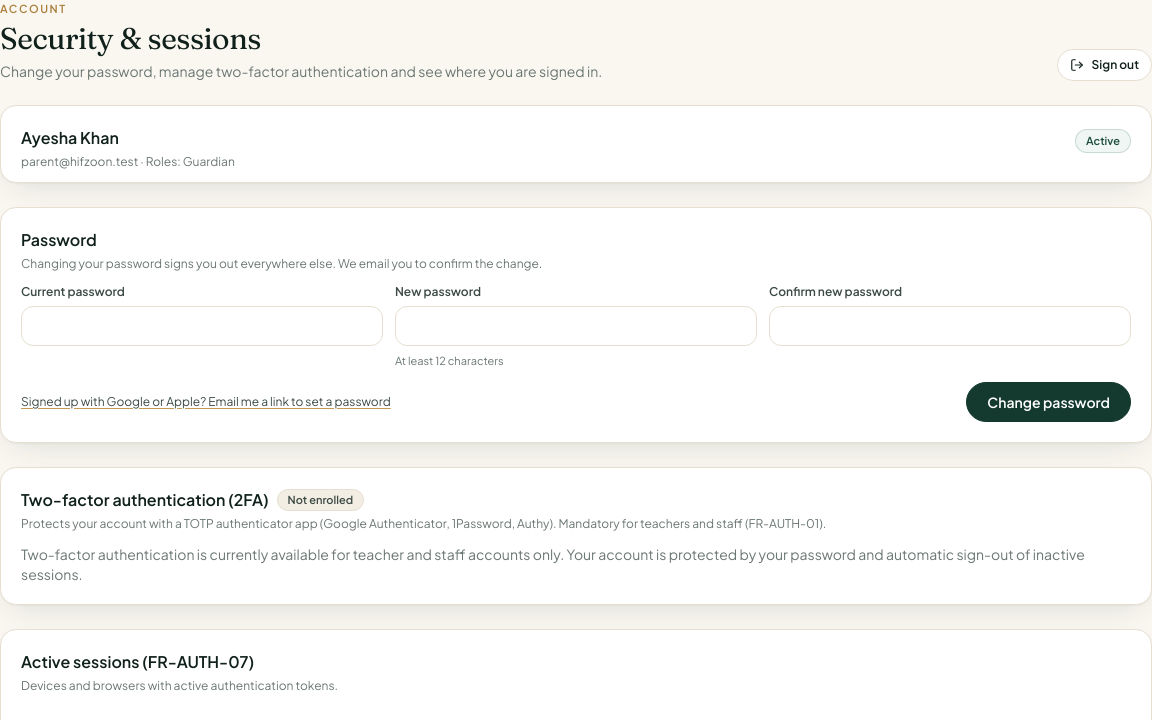
it: Account security → Password › validates locally and shows the API error for a wrong current password
Step 1. Type "wrong-password-1" into the password field labelled "Current password" → [202, 326], box top-left (21, 306), bottom-right (383, 346)
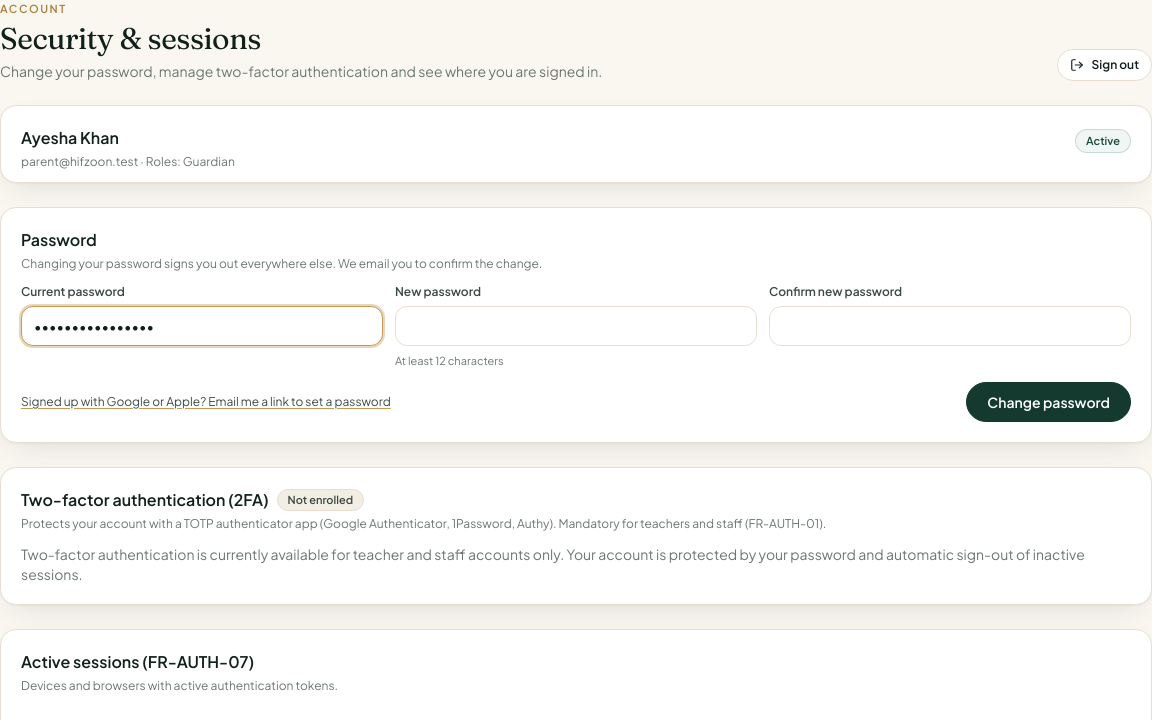
Step 2. Type "short" into the password field labelled "New password" → [576, 326], box top-left (395, 306), bottom-right (757, 346)
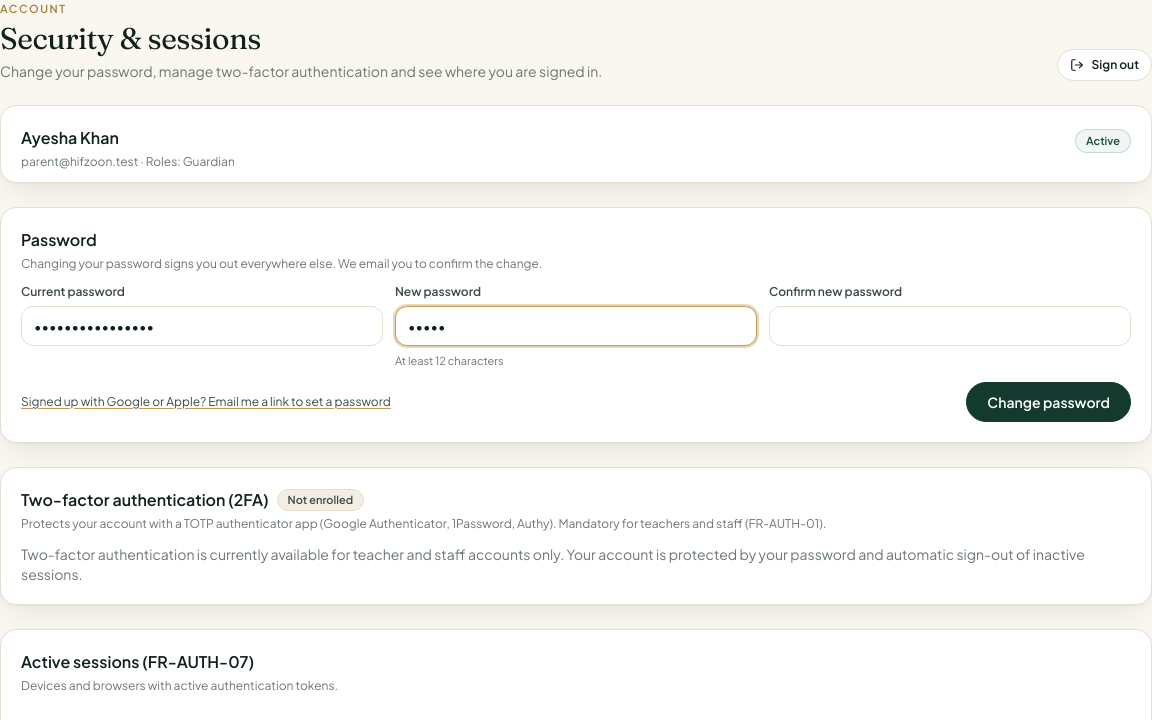
Step 3. Click the button "Change password" → [1049, 402], box top-left (966, 382), bottom-right (1131, 422)
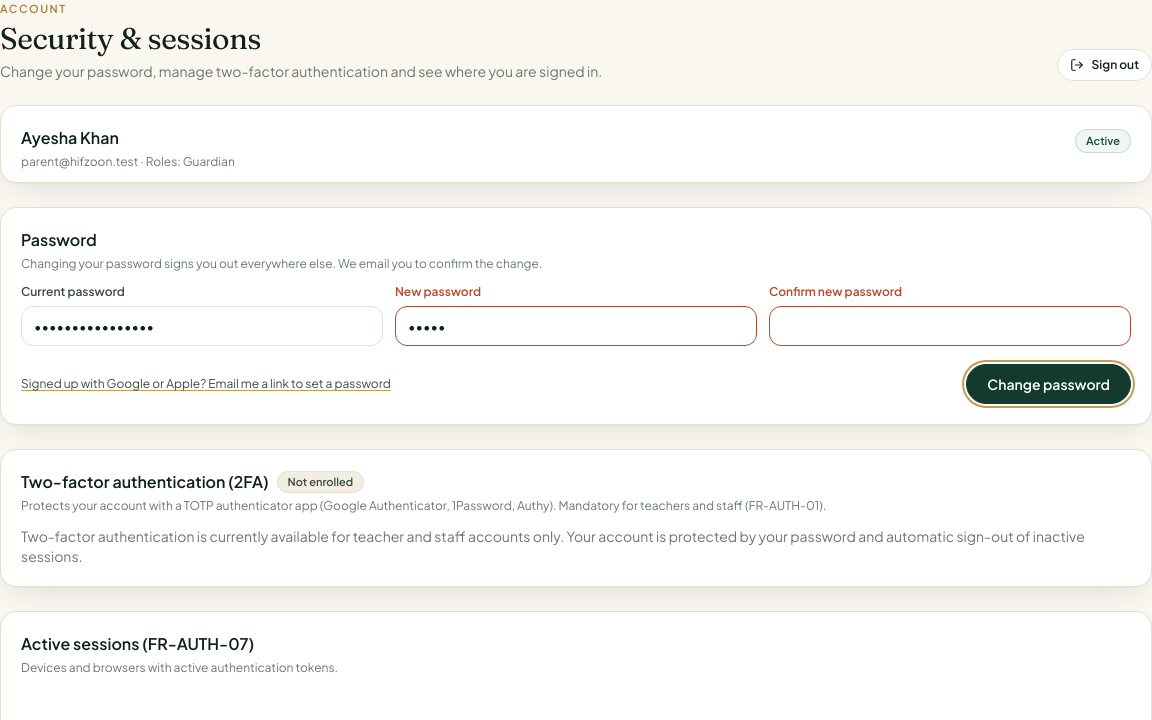
Step 4. Type "new-password-456" into the password field labelled "New password" → [576, 326], box top-left (395, 306), bottom-right (757, 346)
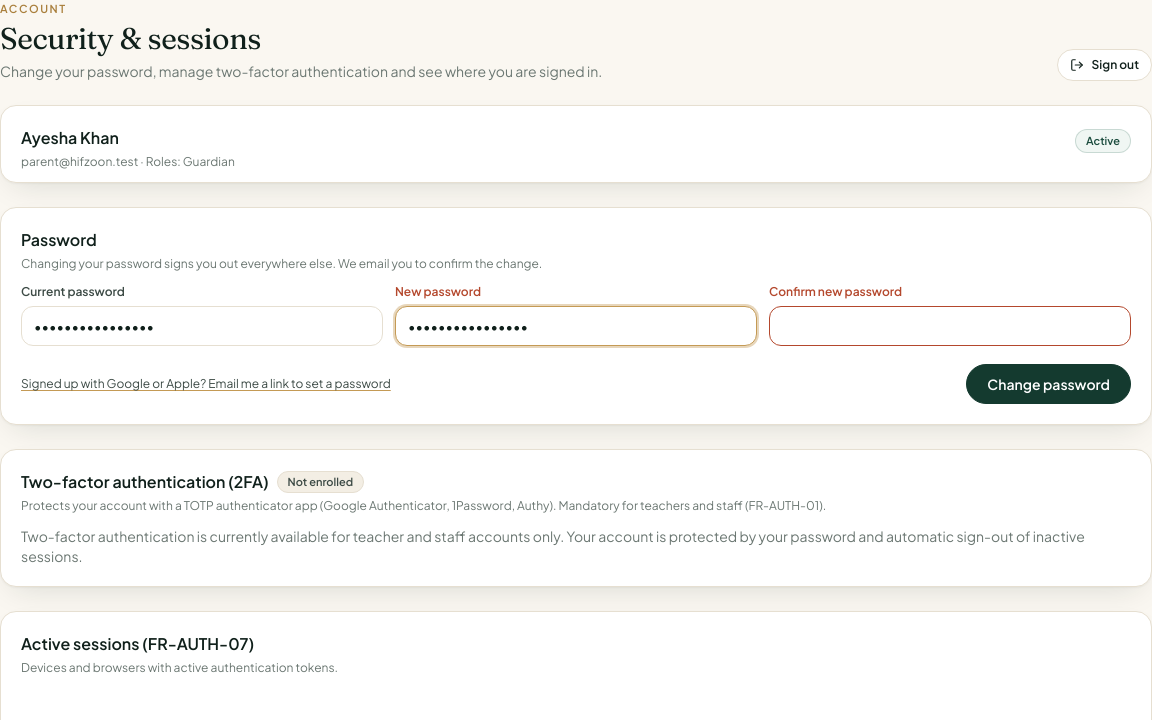
Step 5. Type "new-password-456" into the password field labelled "Confirm new password" → [950, 326], box top-left (769, 306), bottom-right (1131, 346)
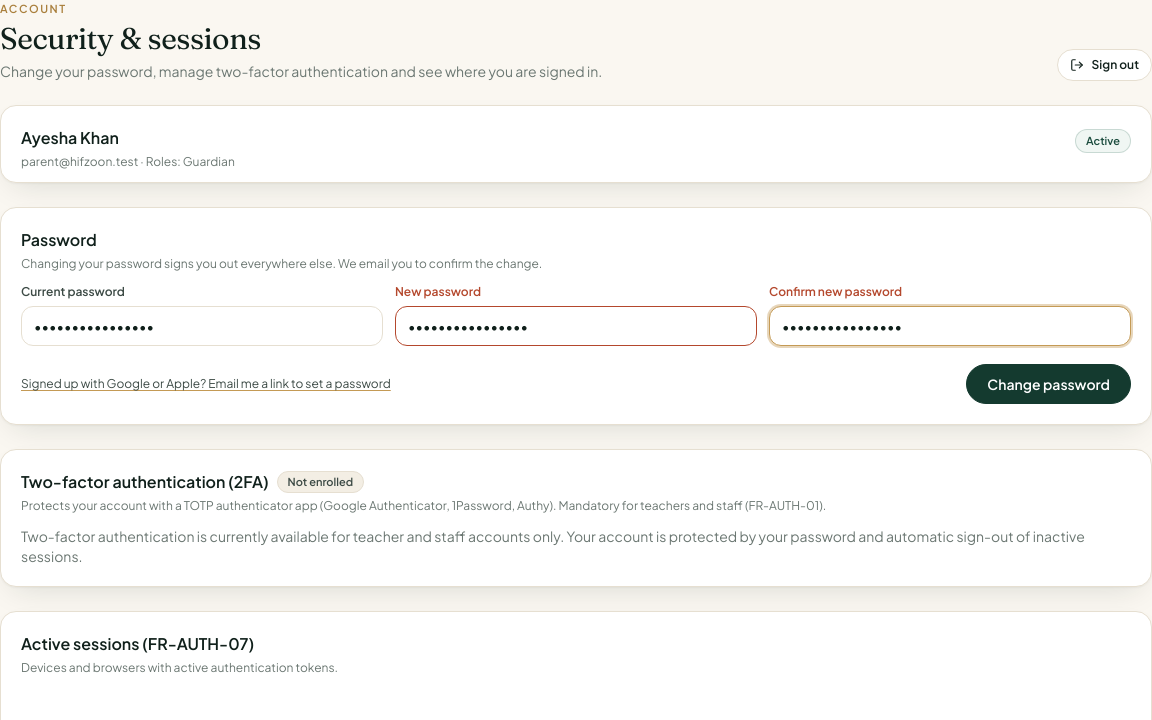
Step 6. Click the button "Change password" → [1049, 384], box top-left (966, 364), bottom-right (1131, 404)
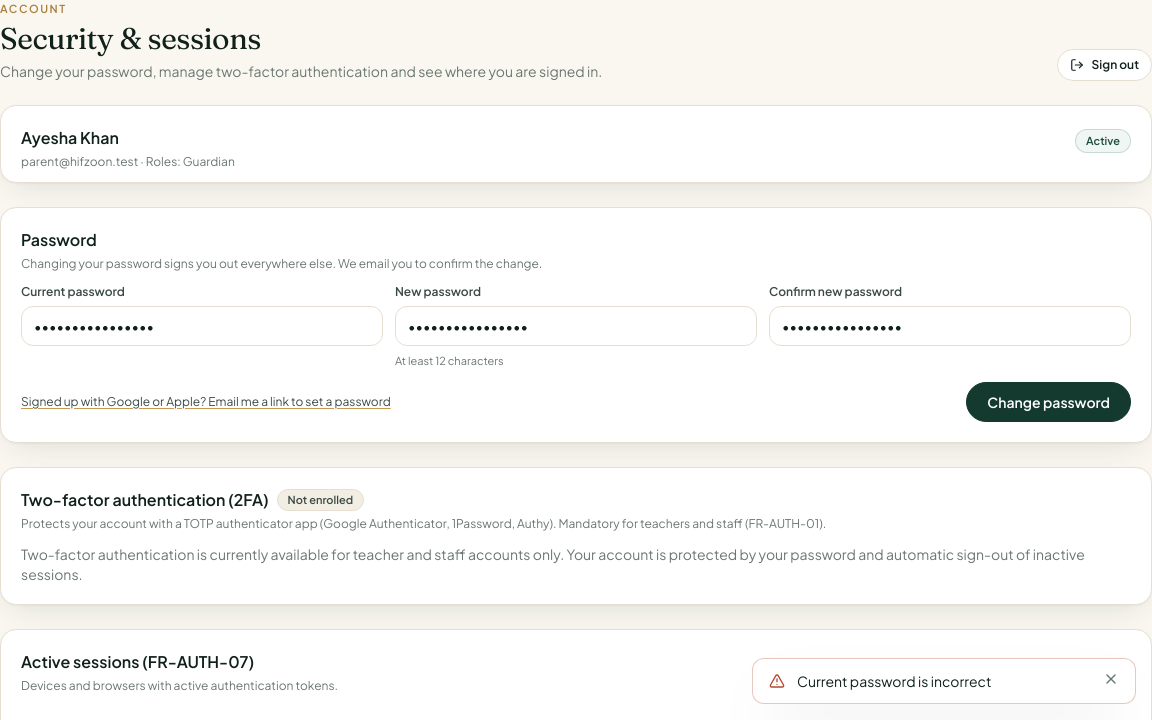
Check: the text "Current password is incorrect" is shown, box top-left (797, 672), bottom-right (991, 690)
